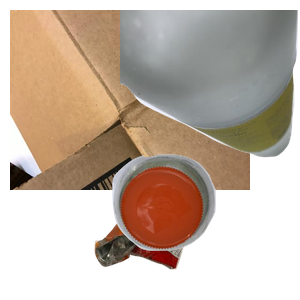cardboard: (10, 10, 250, 190)
glass: (120, 10, 300, 160)
plastic: (110, 152, 300, 300)
trash: (92, 174, 272, 300)
